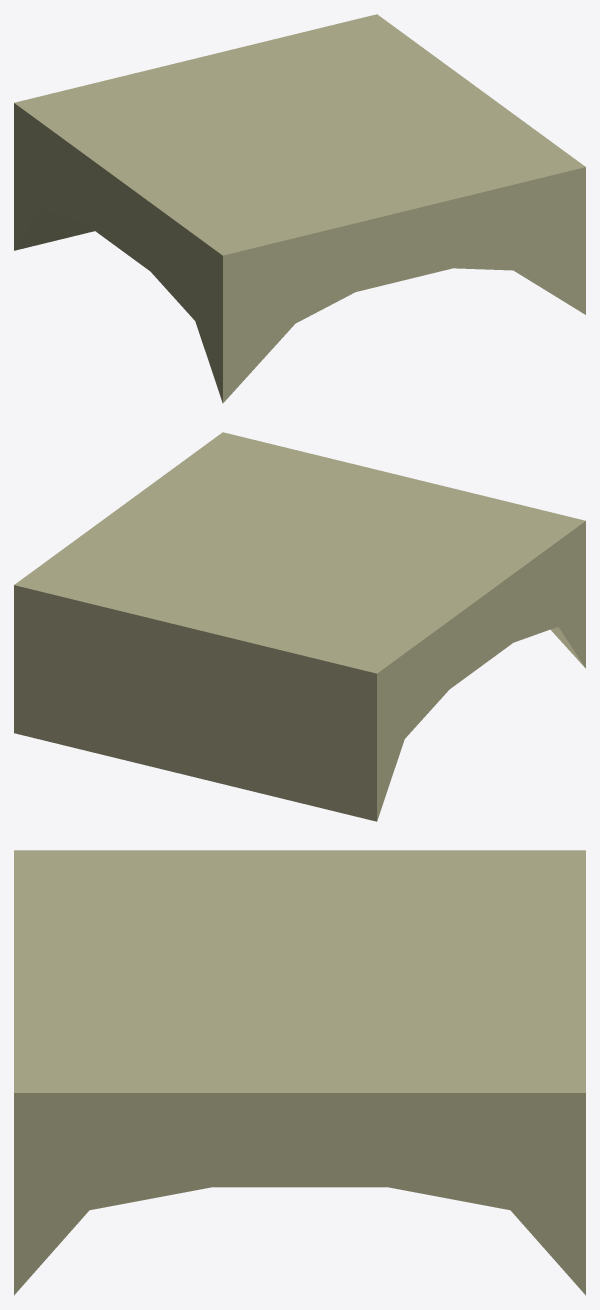
File: roof T.fbx
The picture shows the model from 3 angles, top to bottom: view 1: azimuth 30°, elevation 25°; view 2: azimuth 150°, elevation 25°; view 3: azimuth 270°, elevation 25°; orthographic projection. The views are drawn at different scales.
Visible parts, largest first — view 1: Roof L; view 2: Roof L; view 3: Roof L.
Part boxes in pixels (x1,y1,x2,y2): Roof L: (14, 14, 585, 403); Roof L: (14, 432, 585, 821); Roof L: (14, 850, 585, 1295).
Bounding box in the file's own units: 1030 × 401 × 1026.
